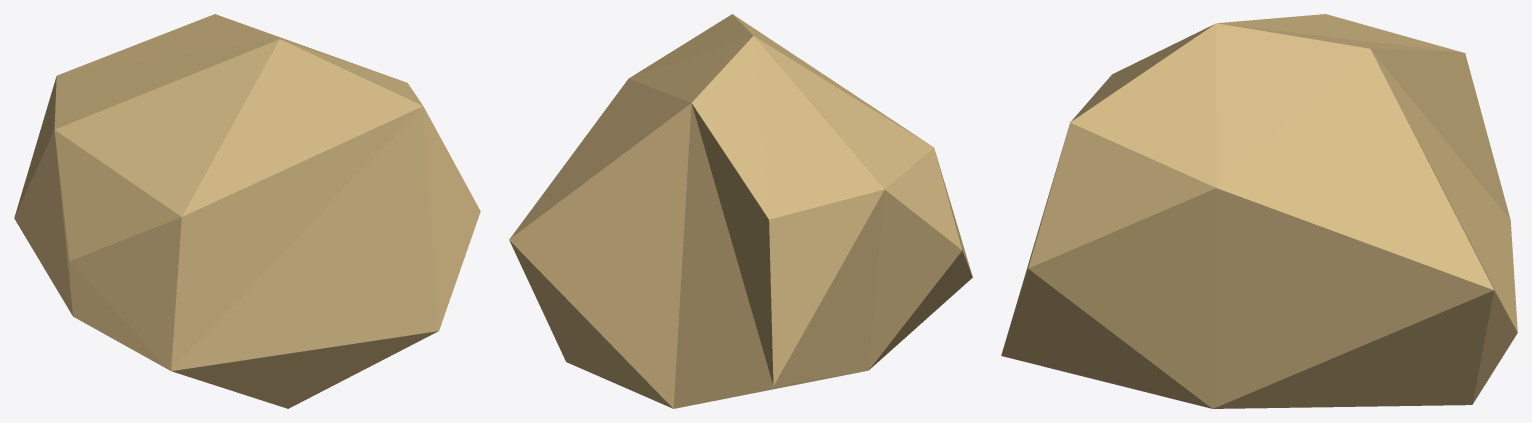
File: Rock_4_low.fbx
3 views of the same model, side by side, from view 1: azimuth 30°, elevation 25°; view 2: azimuth 150°, elevation 25°; view 3: azimuth 270°, elevation 25° (orthographic). The views are drawn at different scales.
Visible parts, largest first — view 1: Stone_4_low; view 2: Stone_4_low; view 3: Stone_4_low.
Boxes of the visible parts, x1,y1,x2,y2 form: Stone_4_low: (14,14,480,408); Stone_4_low: (509,14,972,408); Stone_4_low: (1001,14,1517,408).
Bounding box in the file's own units: 2.27 × 1.98 × 2.44.
